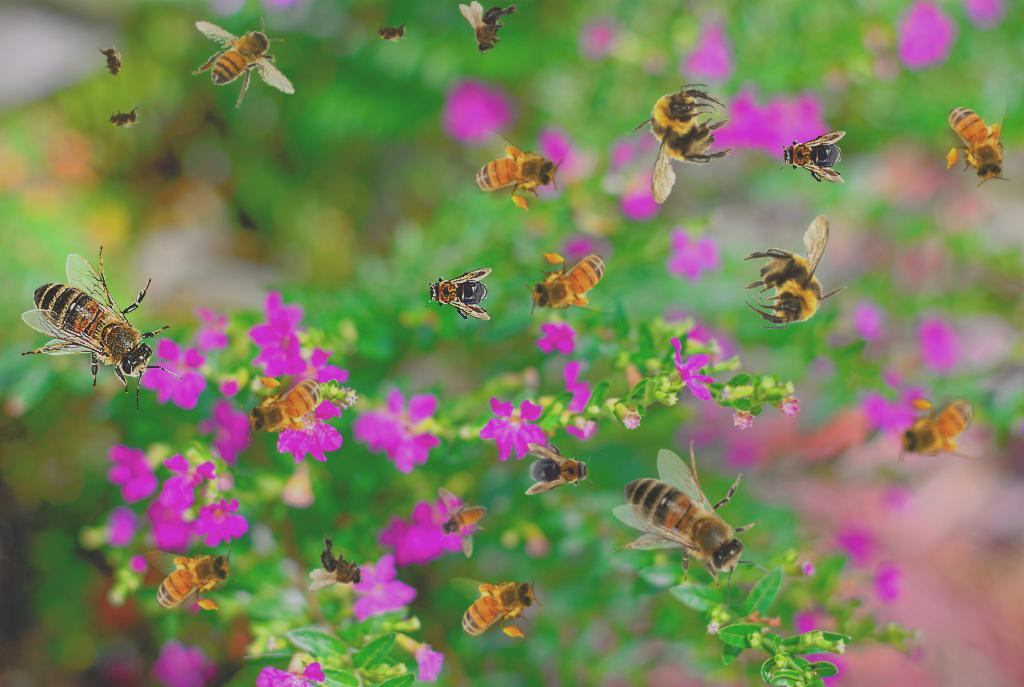Bee: (21, 245, 183, 412), (612, 440, 774, 607), (620, 79, 741, 208), (181, 6, 308, 118), (741, 214, 848, 329), (457, 123, 571, 222), (892, 393, 988, 464), (449, 573, 542, 641), (241, 373, 334, 441), (525, 249, 618, 317), (943, 94, 1011, 187), (144, 546, 237, 614), (305, 529, 374, 605), (437, 487, 487, 558), (424, 268, 492, 320), (525, 443, 593, 495), (778, 131, 846, 183), (459, 1, 521, 54), (96, 39, 128, 85), (101, 104, 145, 132), (371, 21, 411, 43)
